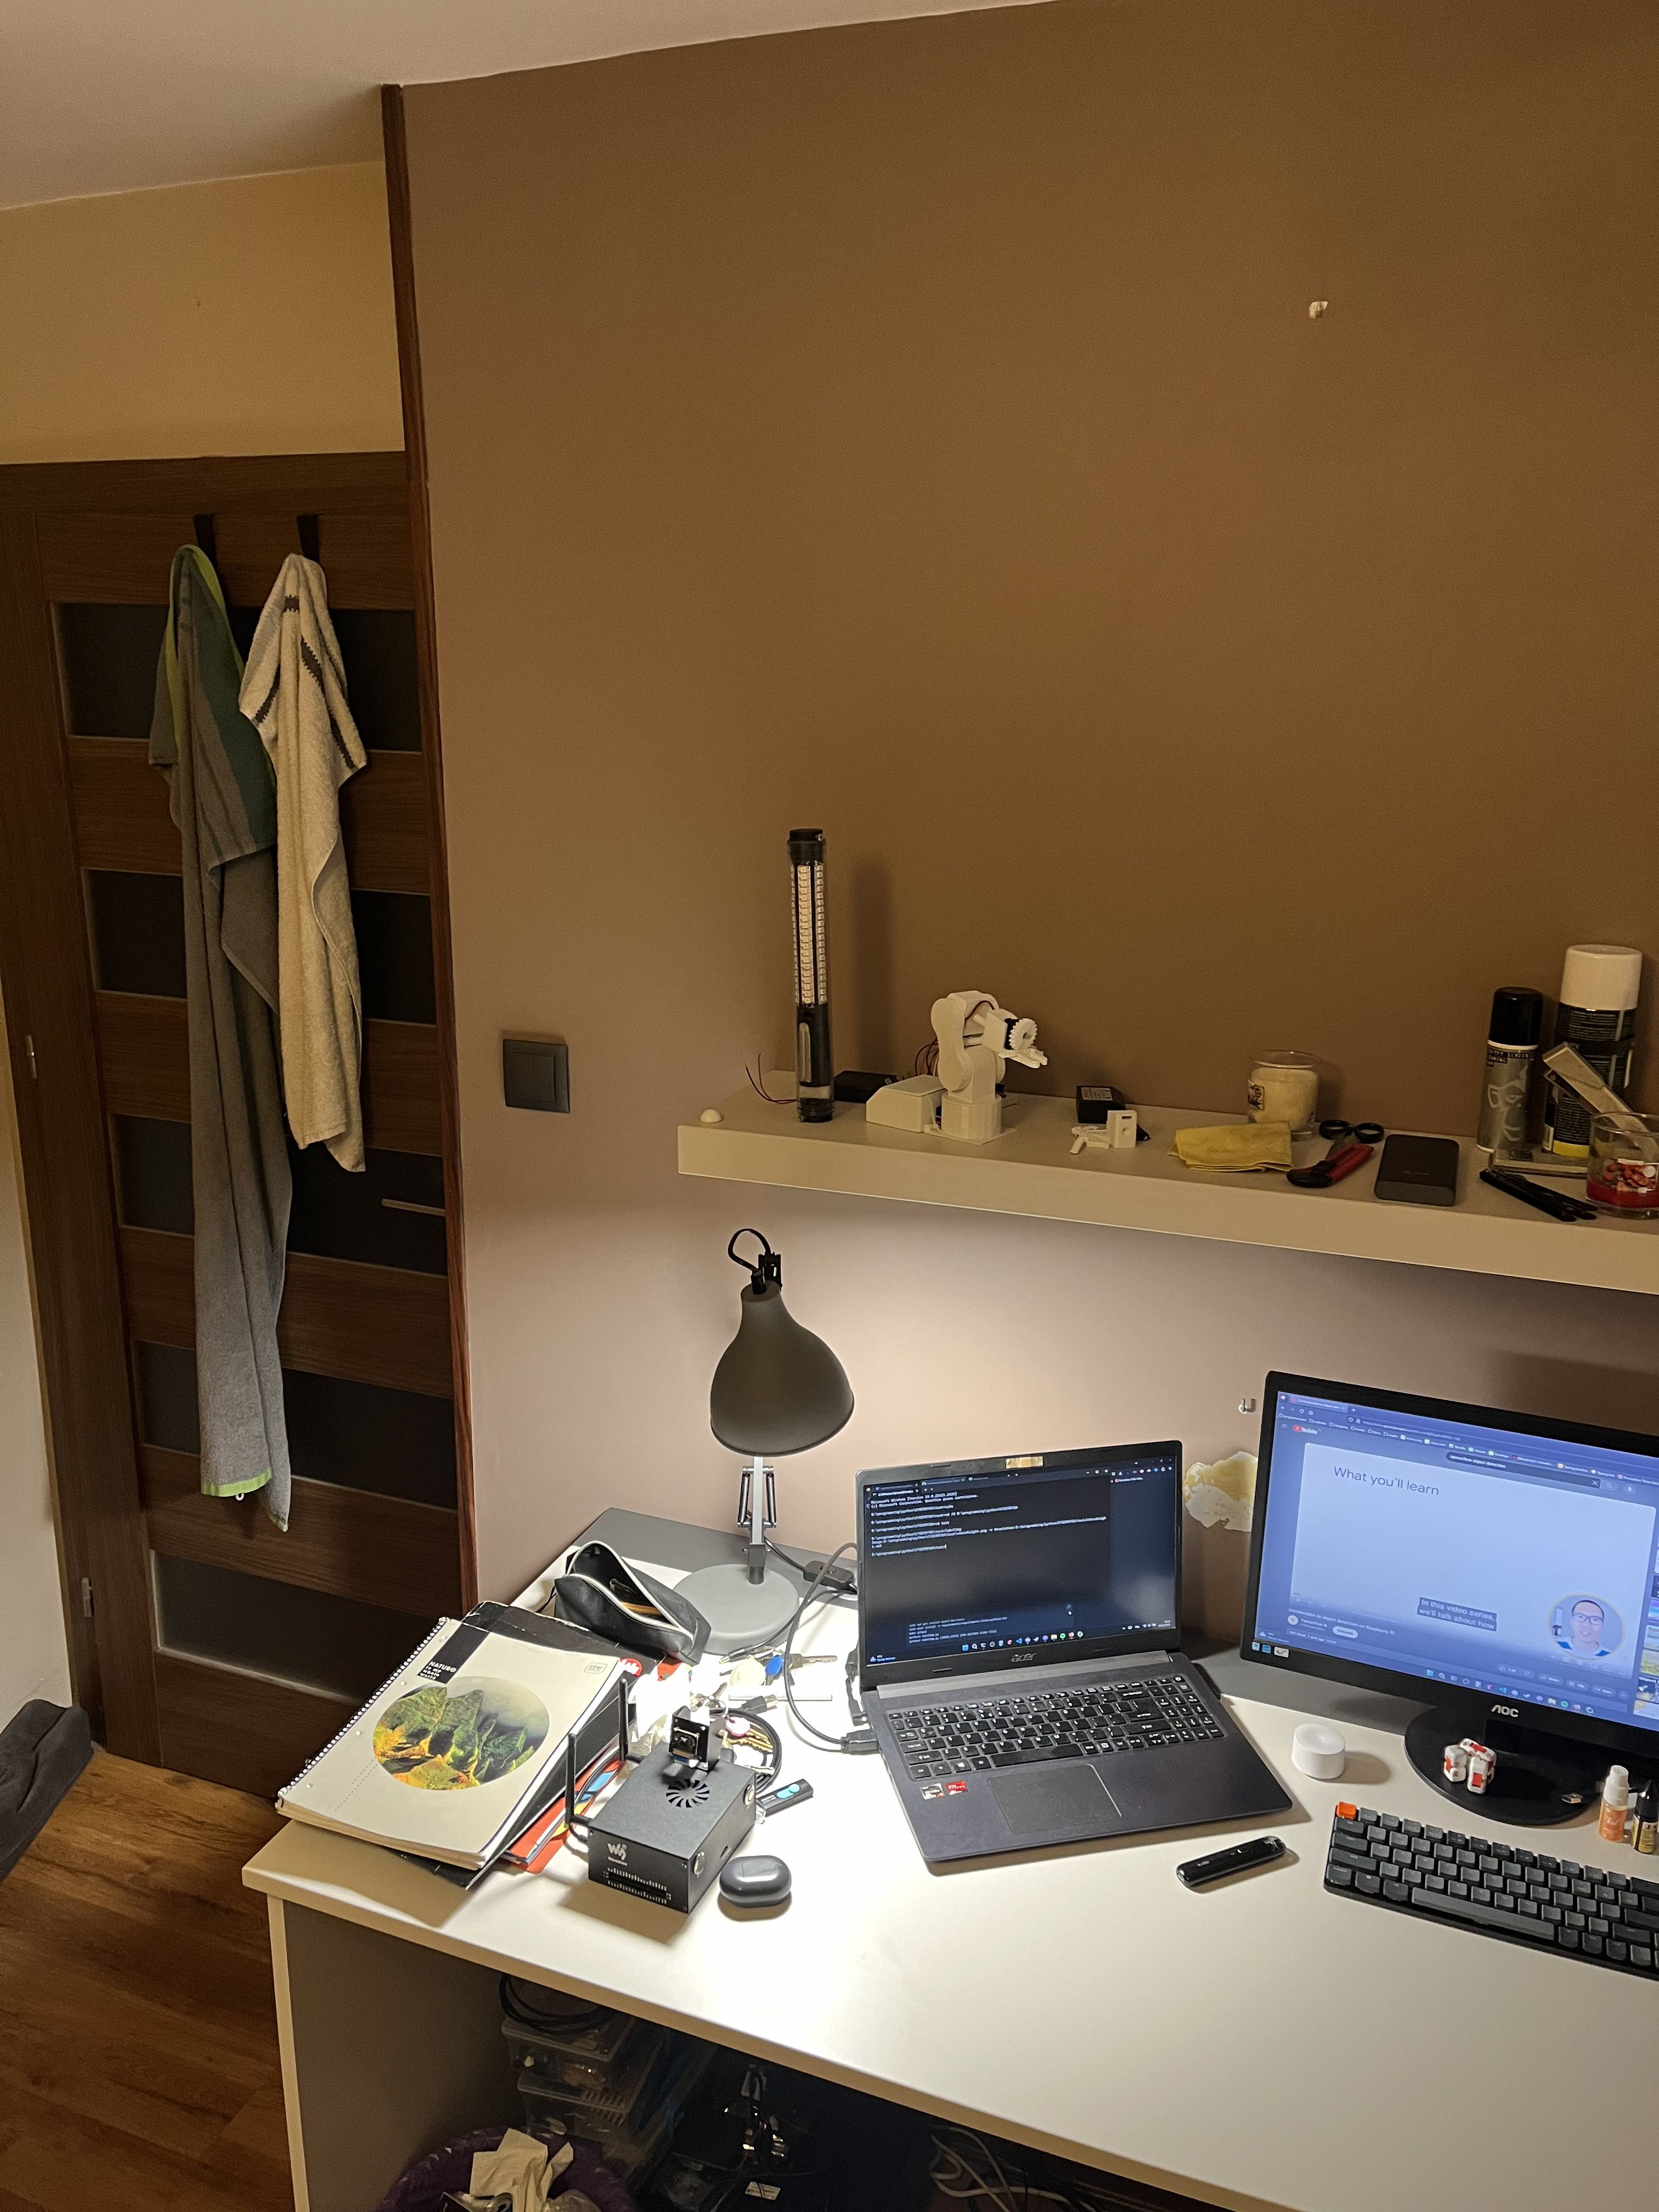black: (789, 840, 835, 1127)
